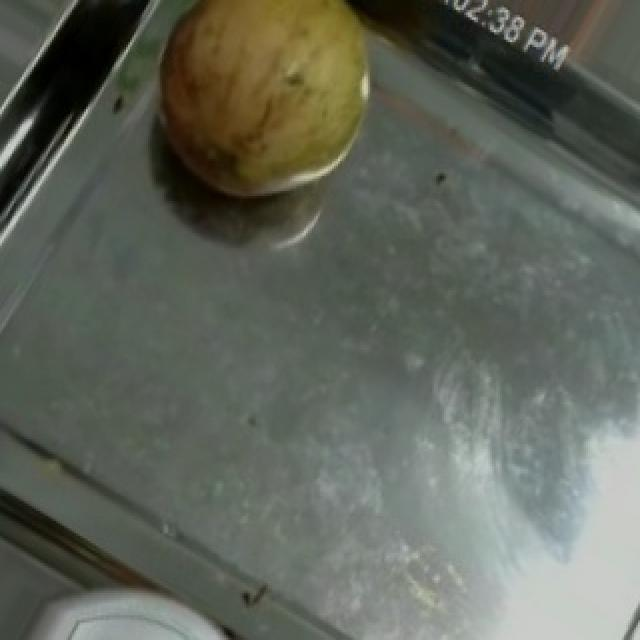fruit: (114, 0, 404, 231)
